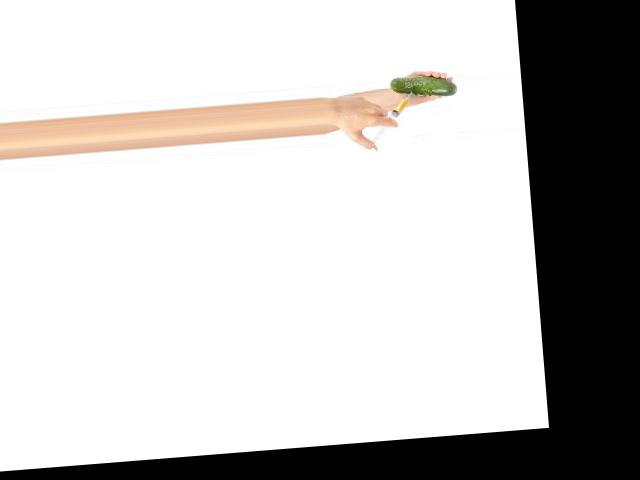cucumber: (390, 73, 458, 99)
